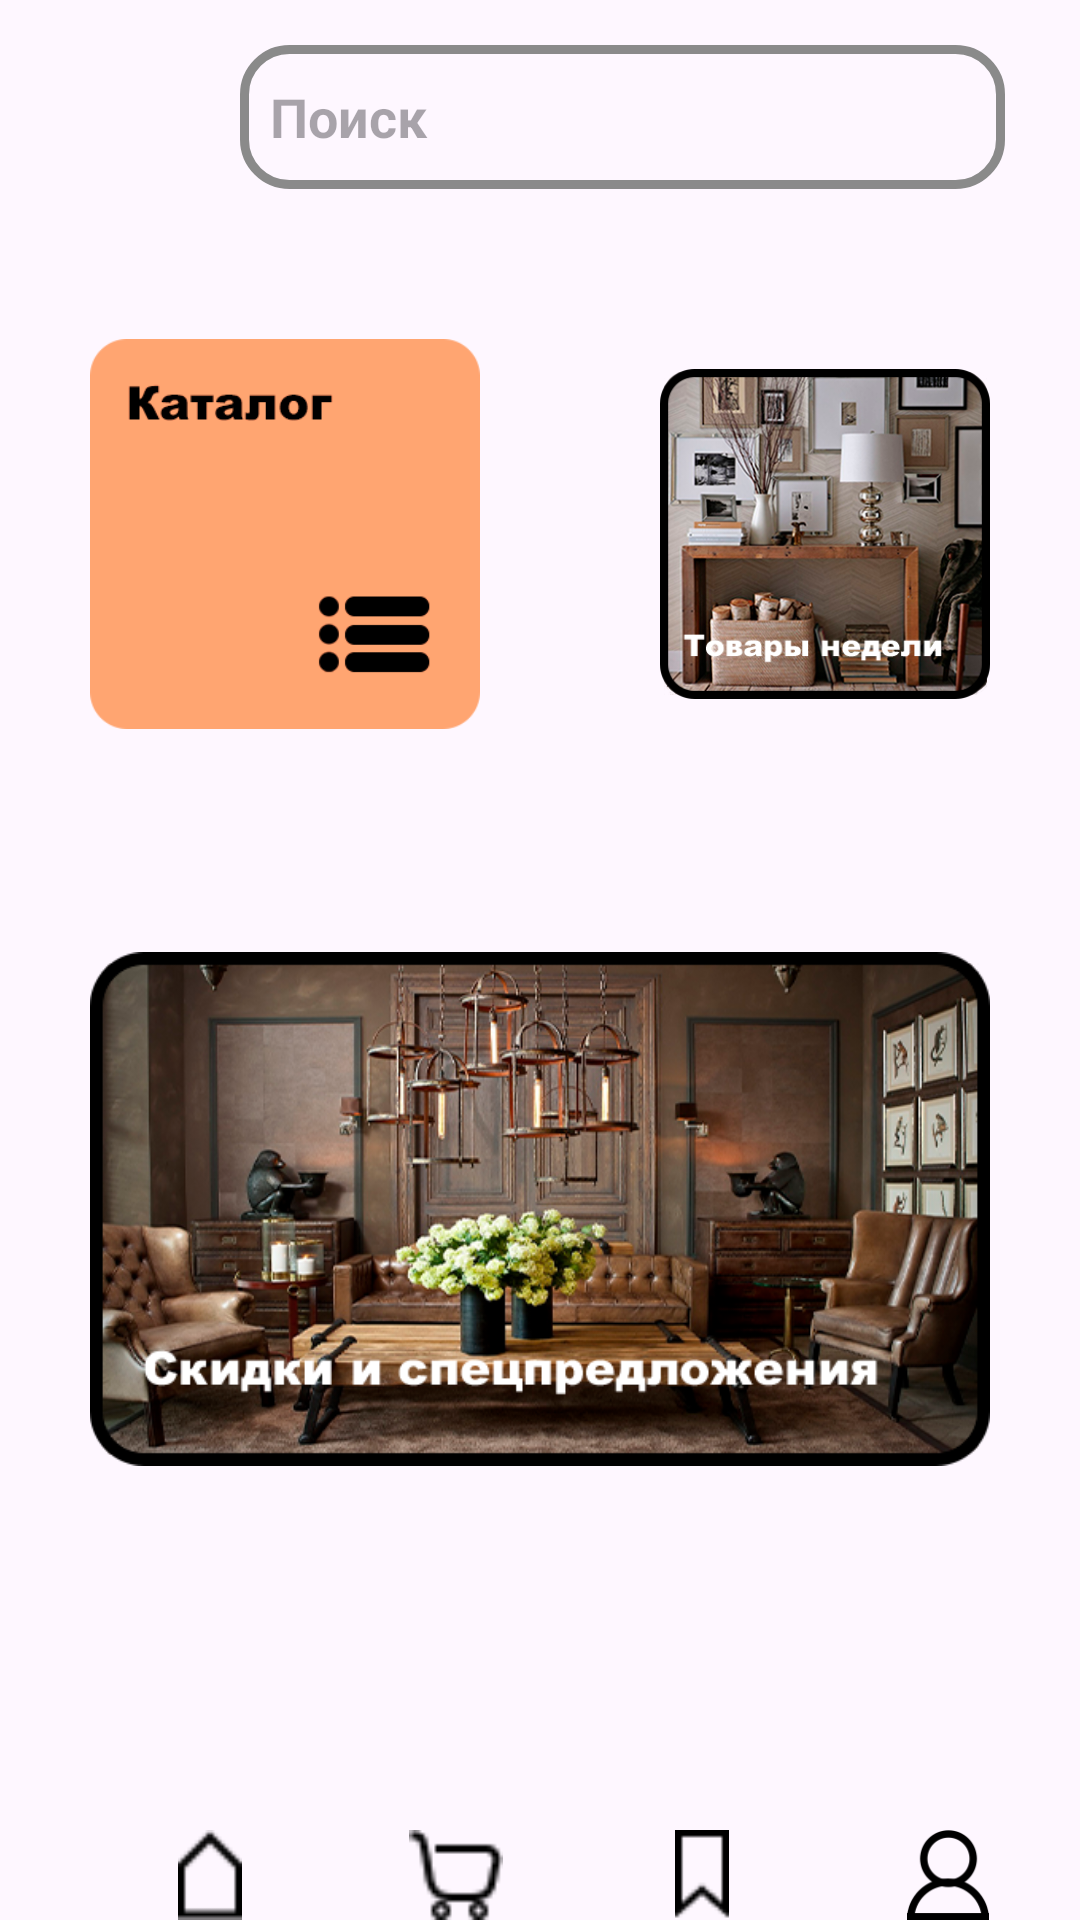

Named icons in this screenshot (1080w x 1920h) and their bounding boxes, box(x1, y1, x2, y2):
cart: box(409, 1830, 503, 1920)
favorites: box(675, 1830, 729, 1918)
home: box(178, 1830, 242, 1920)
user: box(907, 1830, 989, 1920)
